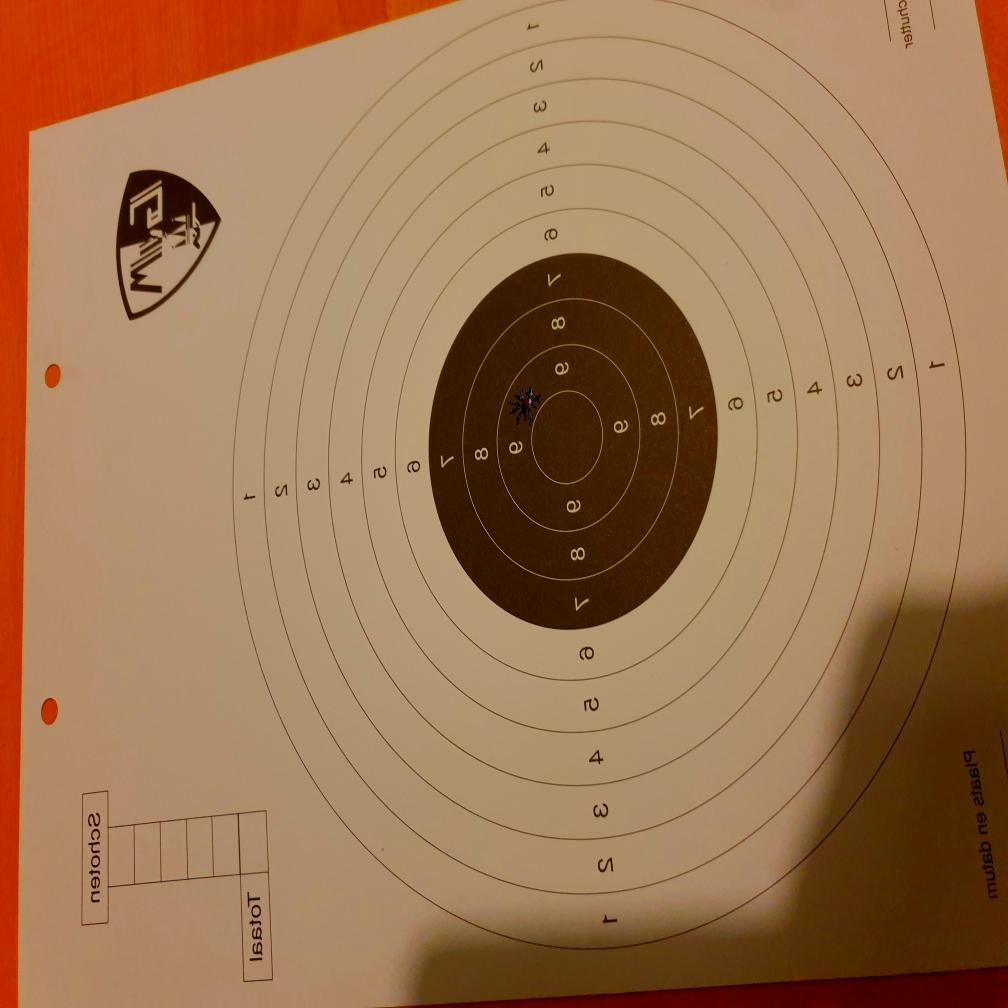9: (508, 386, 541, 428)
Target: (234, 3, 965, 954)
black_contour: (429, 253, 717, 631)
